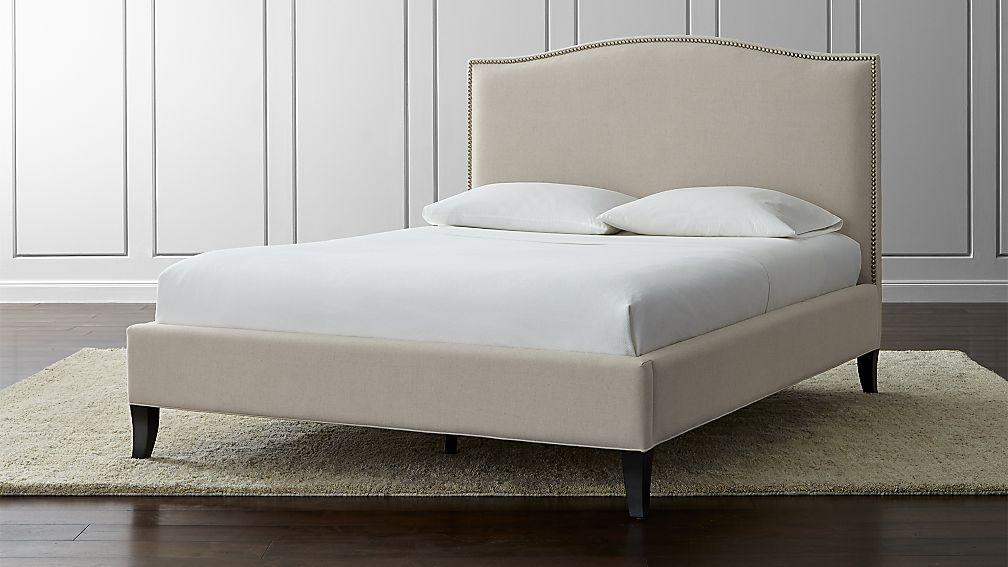bed: (117, 29, 950, 531)
